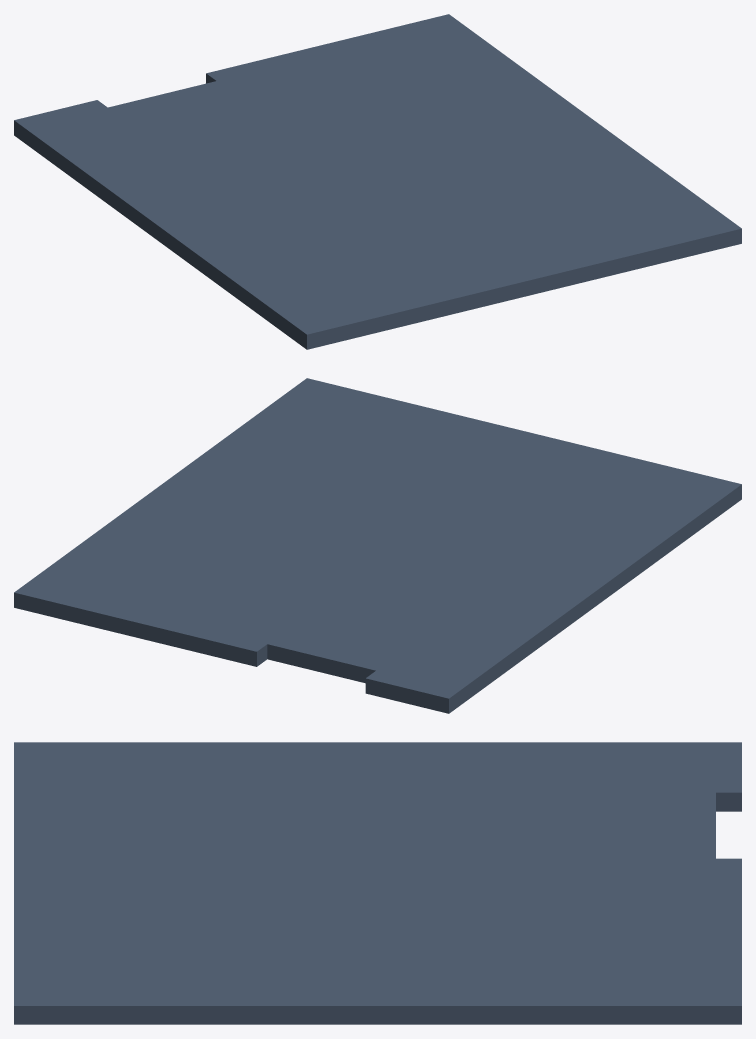
The model's file is floor_007_l_archive_a_floor_stair.obj.
The picture shows the model from 3 angles, top to bottom: view 1: azimuth 30°, elevation 25°; view 2: azimuth 150°, elevation 25°; view 3: azimuth 270°, elevation 25°; orthographic projection. The views are drawn at different scales.
Parts seen in each view (by area): view 1: Floor_007_l_archive_a_floor_stair; view 2: Floor_007_l_archive_a_floor_stair; view 3: Floor_007_l_archive_a_floor_stair.
Part boxes in pixels (x1,y1,x2,y2): Floor_007_l_archive_a_floor_stair: (14,14,741,349); Floor_007_l_archive_a_floor_stair: (14,378,741,713); Floor_007_l_archive_a_floor_stair: (14,742,741,1024).
Bounding box in the file's own units: 6 × 0.2 × 7.
